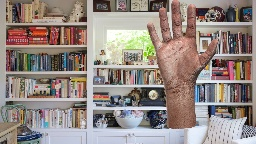Mano_aperta: (145, 0, 219, 85)
